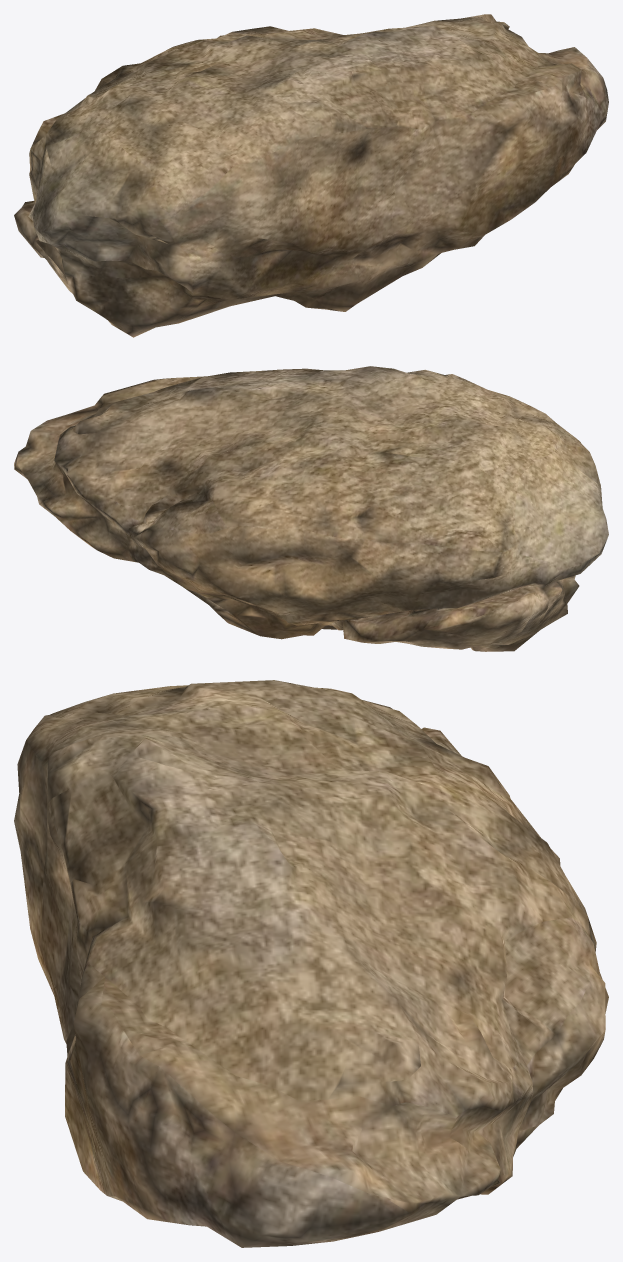
File: stone.glb
The picture shows the model from 3 angles, top to bottom: view 1: azimuth 30°, elevation 25°; view 2: azimuth 150°, elevation 25°; view 3: azimuth 270°, elevation 25°; orthographic projection. The views are drawn at different scales.
Parts seen in each view (by area): view 1: namaqualand_boulder_05; view 2: namaqualand_boulder_05; view 3: namaqualand_boulder_05.
Part boxes in pixels (x1,y1,x2,y2): namaqualand_boulder_05: (14,14,608,337); namaqualand_boulder_05: (14,366,608,651); namaqualand_boulder_05: (14,680,608,1247).
Size of the model in its own units: 1.36 by 0.5338 by 0.7462.
Materials: 1 (1 with a texture image).
